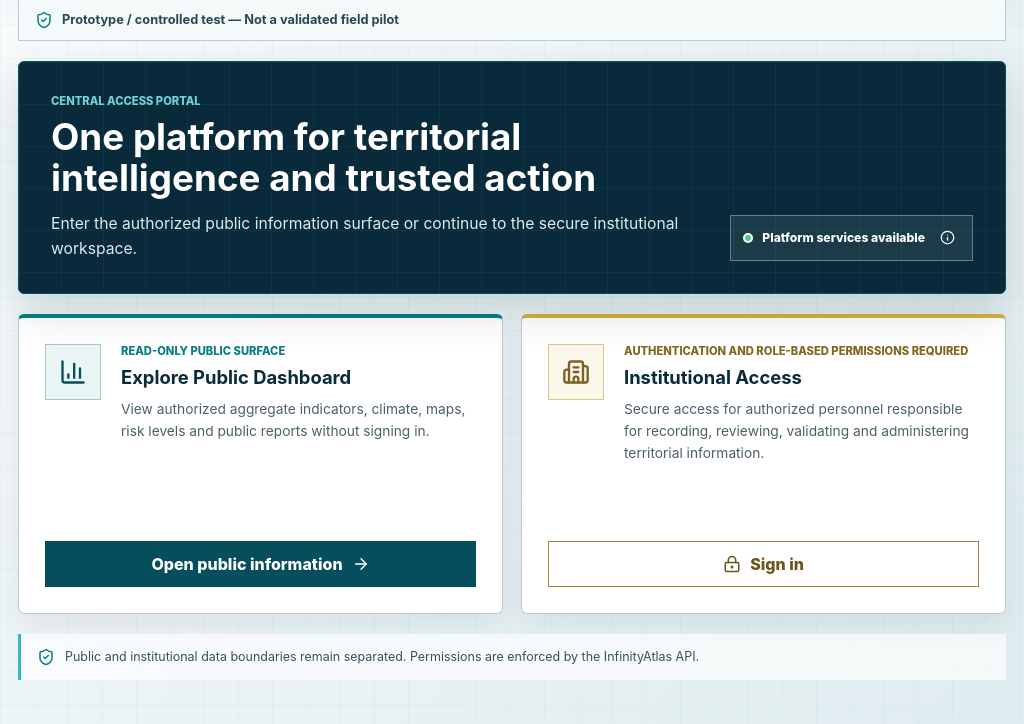
Sprint 1B application › renders login errors without exposing credential details
The image size is (1024, 724).
(page scrolled)
Click the button "Sign in" at (764, 564), box [548,541,979,587]
(page scrolled)
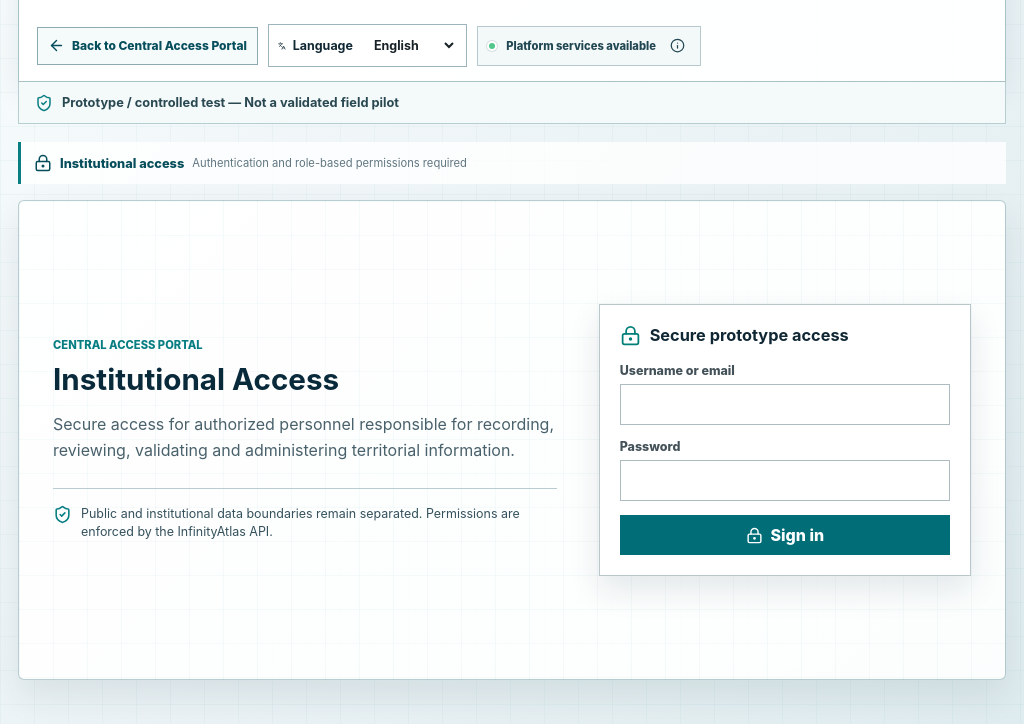
Check: the field labelled "Username or email" is shown
Type "demo-monitor" into the field labelled "Username or email" at (785, 405), box [620,384,950,425]
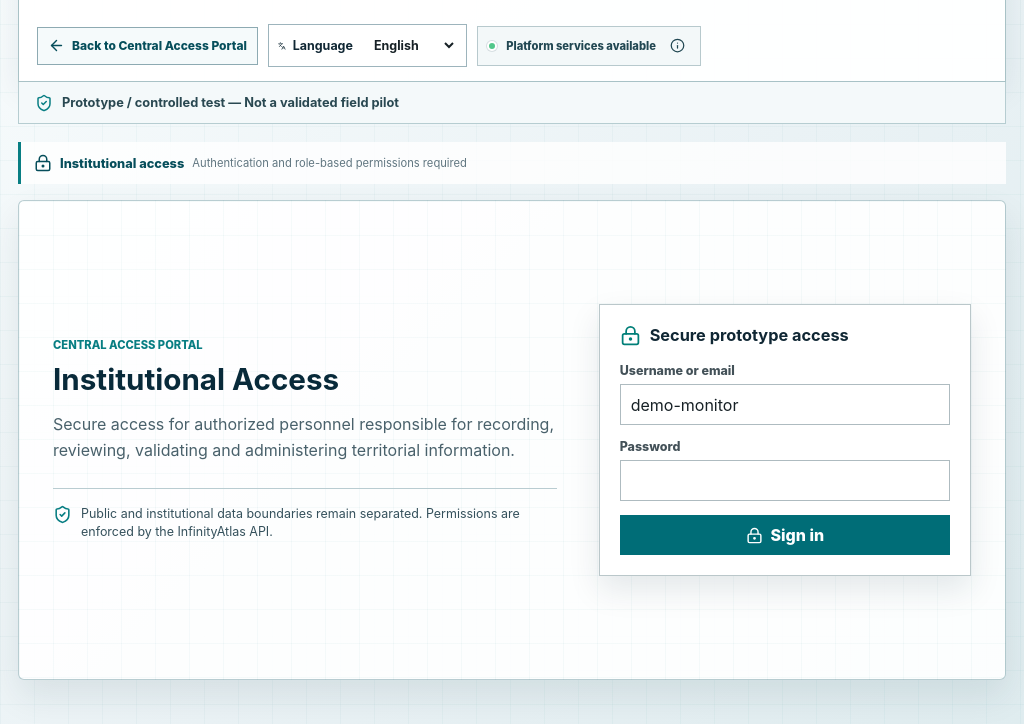
Type "wrong" into the password field labelled "Password" at (785, 481), box [620,460,950,501]
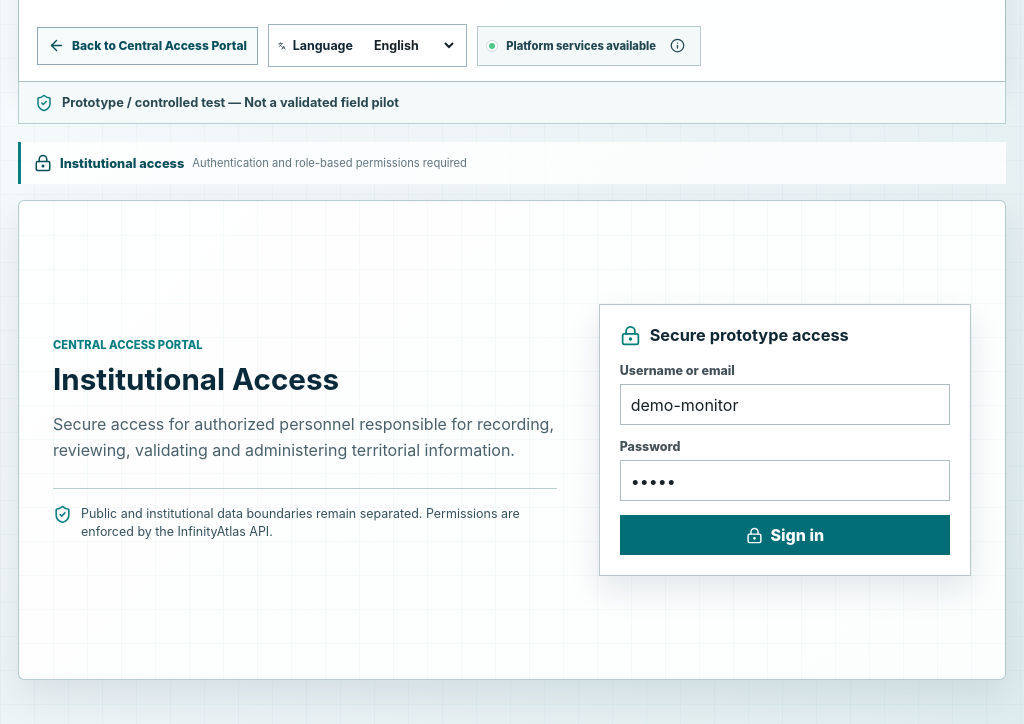
Click the button "Sign in" at (785, 535), box [620,515,950,555]
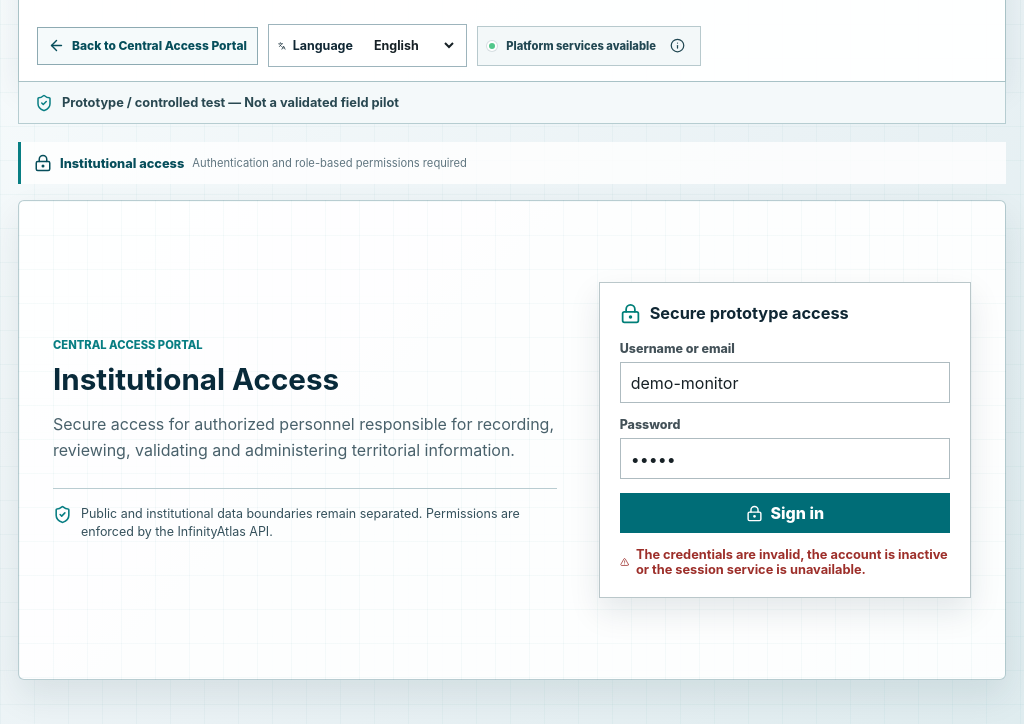
Check: the 2nd message shows "credentials are invalid", box [636,547,948,577]
